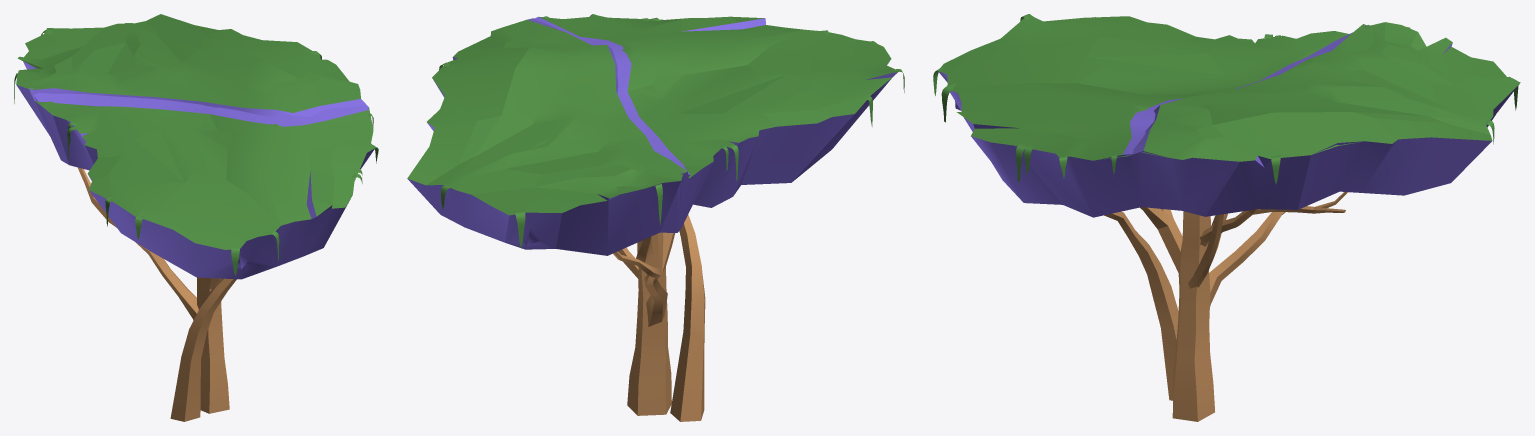
Rendered from tree_B_canopy_B_B_solo.fbx.
The picture shows the model from 3 angles, left to right: view 1: azimuth 30°, elevation 25°; view 2: azimuth 150°, elevation 25°; view 3: azimuth 270°, elevation 25°; orthographic projection. The views are drawn at different scales.
Visible parts, largest first — view 1: tree_B_canopy_B_B, tree_B_canopy_B_B_leveled, tree_B_canopy_trunk_E, tree_B_canopy_trunk_A, tree_B_canopy_trunk_F; view 2: tree_B_canopy_B_B, tree_B_canopy_B_B_leveled, tree_B_canopy_trunk_A, tree_B_canopy_trunk_E, tree_B_canopy_trunk_F; view 3: tree_B_canopy_B_B, tree_B_canopy_B_B_leveled, tree_B_canopy_trunk_A, tree_B_canopy_trunk_E, tree_B_canopy_trunk_F, tree_B_canopy_trunk_G, tree_B_canopy_trunk_D, tree_B_canopy_trunk_H.
Part boxes in pixels (x1,y1,x2,y2): tree_B_canopy_B_B: [16, 14, 374, 279]; tree_B_canopy_B_B_leveled: [16, 43, 369, 215]; tree_B_canopy_trunk_E: [170, 278, 236, 421]; tree_B_canopy_trunk_A: [197, 277, 229, 413]; tree_B_canopy_trunk_F: [77, 167, 198, 320]; tree_B_canopy_B_B: [407, 15, 898, 255]; tree_B_canopy_B_B_leveled: [433, 18, 852, 231]; tree_B_canopy_trunk_A: [627, 232, 671, 415]; tree_B_canopy_trunk_E: [670, 214, 705, 421]; tree_B_canopy_trunk_F: [613, 251, 667, 326]; tree_B_canopy_B_B: [938, 14, 1520, 217]; tree_B_canopy_B_B_leveled: [1027, 22, 1428, 209]; tree_B_canopy_trunk_A: [1172, 211, 1214, 421]; tree_B_canopy_trunk_E: [1104, 211, 1178, 400]; tree_B_canopy_trunk_F: [1209, 212, 1285, 306]; tree_B_canopy_trunk_G: [1140, 207, 1182, 275]; tree_B_canopy_trunk_D: [1200, 192, 1347, 246]; tree_B_canopy_trunk_H: [1188, 214, 1224, 288].
Bounding box in the file's own units: 650 × 636 × 974.
